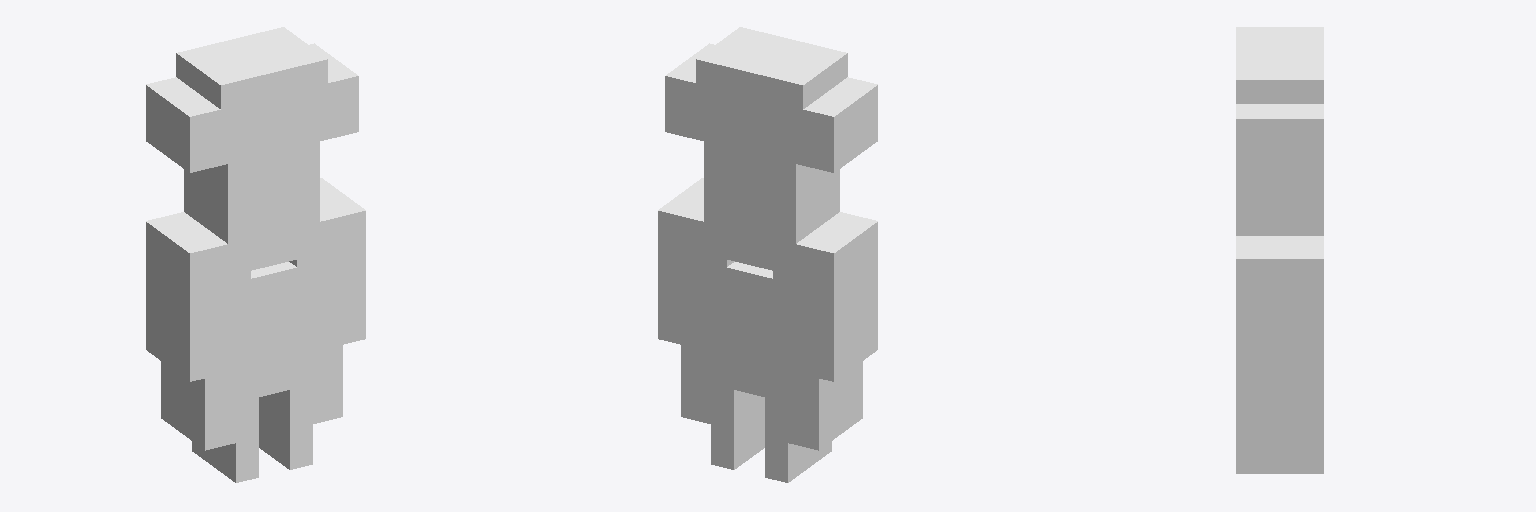
File: niceguy.obj
3 renders of one model, left to right at view 1: azimuth 30°, elevation 25°; view 2: azimuth 150°, elevation 25°; view 3: azimuth 270°, elevation 25°, orthographic.
Visible parts, largest first — view 1: object 1; view 2: object 1; view 3: object 1.
Boxes of the visible parts, x1=… form: object 1: x1=146, y1=27, x2=365, y2=482; object 1: x1=658, y1=27, x2=877, y2=482; object 1: x1=1236, y1=27, x2=1323, y2=473.
Bounding box in the file's own units: 2.3 × 5 × 1.